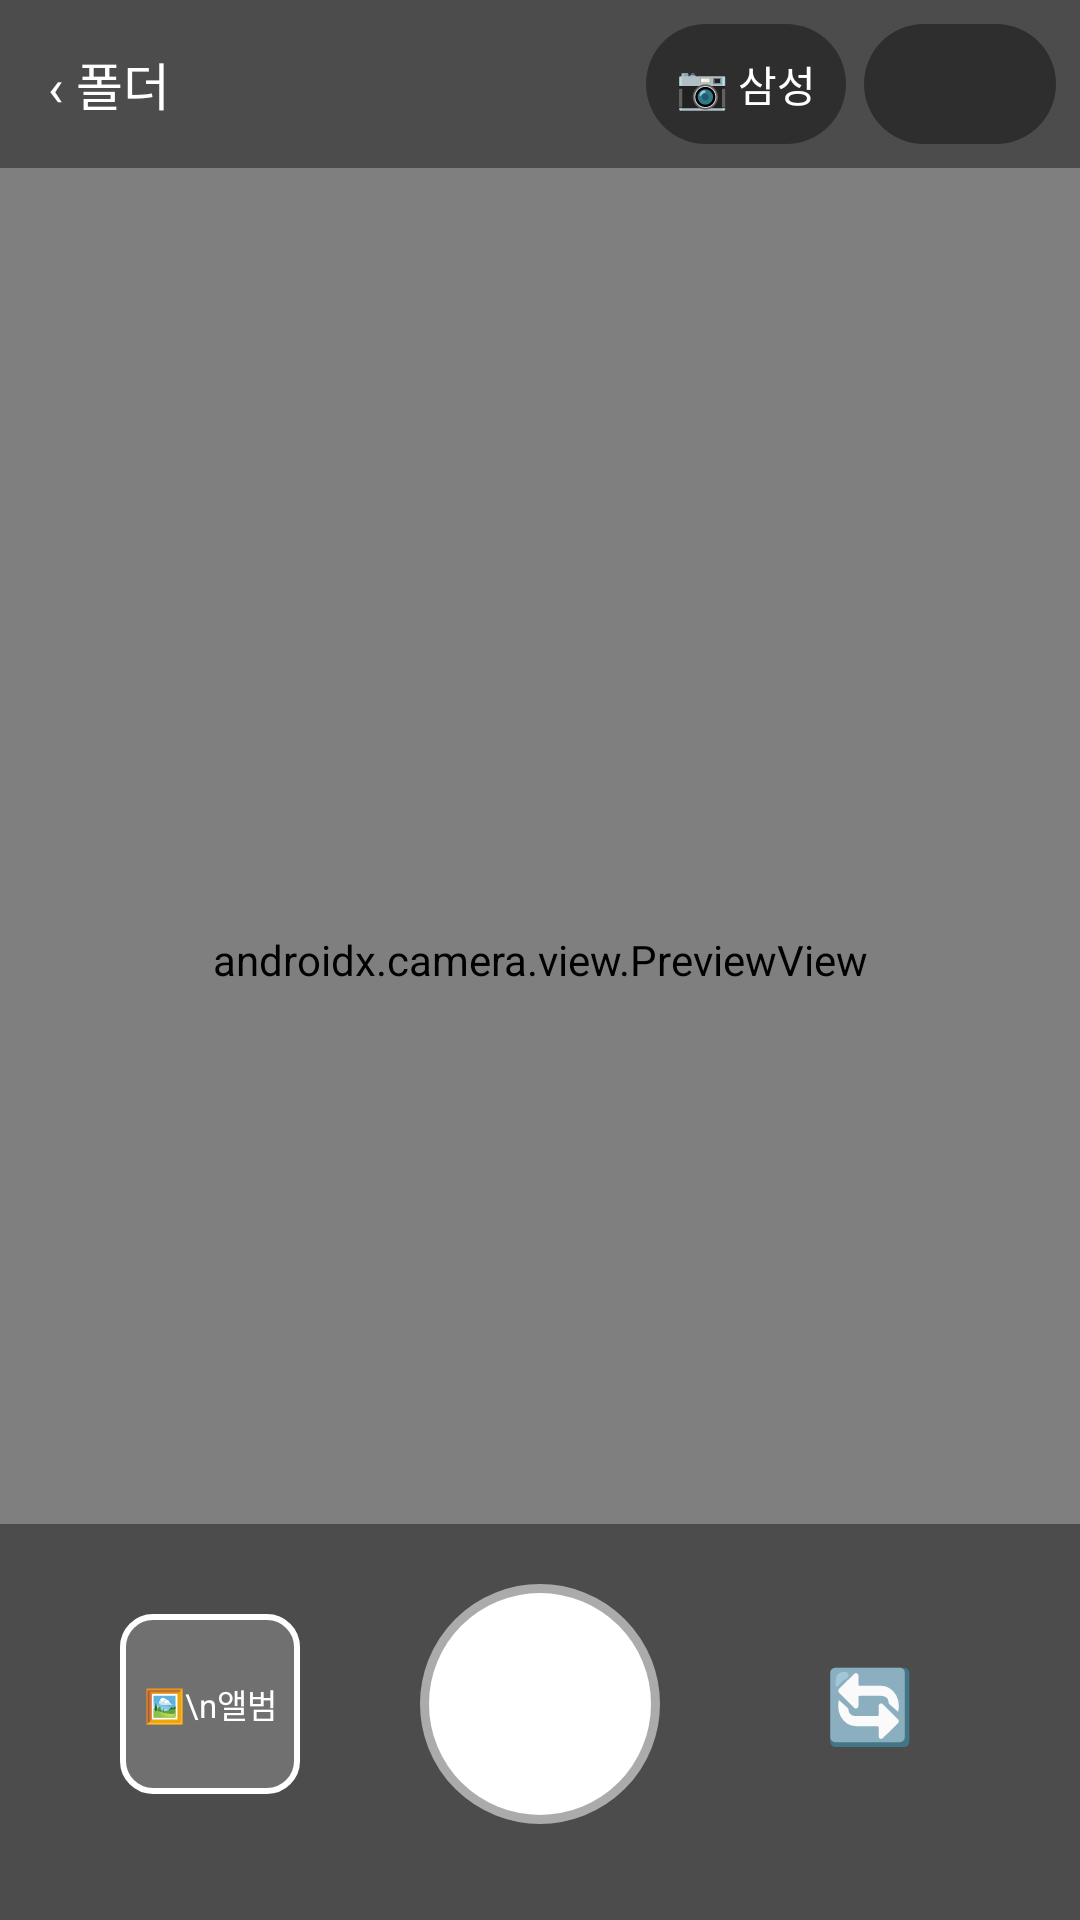

Icons on this 1080x1920 Android screen, each with its box as rect(x1, y1, x2, y2):
촬영: rect(420, 1584, 660, 1824)
